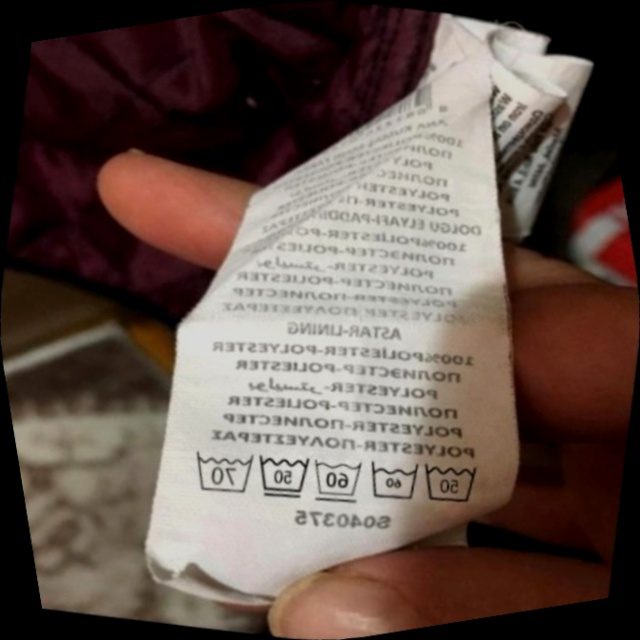50C: (407, 442, 494, 522), (242, 438, 322, 514)
60C: (297, 442, 374, 516), (354, 445, 431, 517)
70C: (176, 434, 264, 510)
